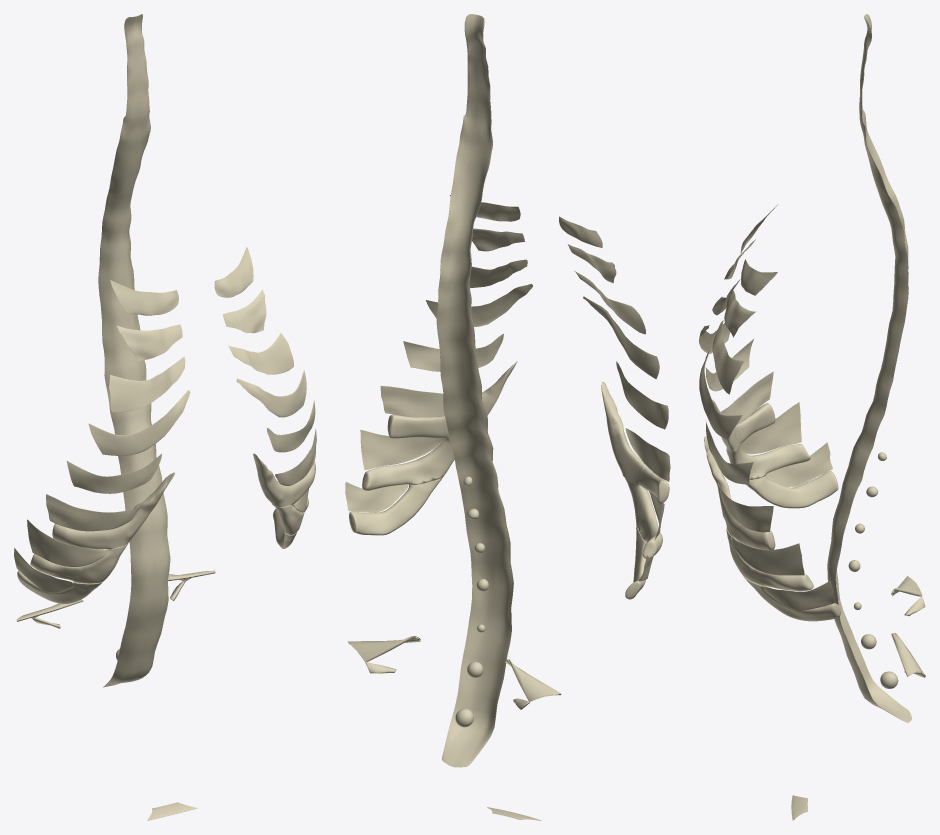
File: joints.abdomen.glb
The picture shows the model from 3 angles, left to right: view 1: azimuth 30°, elevation 25°; view 2: azimuth 150°, elevation 25°; view 3: azimuth 270°, elevation 25°; orthographic projection. The views are drawn at different scales.
Visible parts, largest first — view 1: anterior_longitudinal_ligament, right_external_intercostal_membrane, left_external_intercostal_membrane, right_costal_cartilage_of_eighth_rib, right_costal_cartilage_of_ninth_rib, left_costal_cartilage_of_eighth_rib, right_costal_cartilage_of_tenth_rib, left_costal_cartilage_of_ninth_rib; view 2: anterior_longitudinal_ligament, left_external_intercostal_membrane, right_external_intercostal_membrane, left_costal_cartilage_of_ninth_rib, right_costal_cartilage_of_eighth_rib, left_costal_cartilage_of_tenth_rib, left_costal_cartilage_of_eighth_rib, right_costal_cartilage_of_ninth_rib, left_iliolumbar_ligament, right_iliolumbar_ligament, right_costal_cartilage_of_tenth_rib; view 3: anterior_longitudinal_ligament, left_external_intercostal_membrane, right_external_intercostal_membrane, right_costal_cartilage_of_tenth_rib, left_costal_cartilage_of_eighth_rib, right_costal_cartilage_of_ninth_rib, left_costal_cartilage_of_ninth_rib, right_costal_cartilage_of_eighth_rib, left_costal_cartilage_of_tenth_rib, left_iliolumbar_ligament, right_iliolumbar_ligament.
Boxes of the visible parts, x1,y1,x2,y2 form: anterior_longitudinal_ligament: (98,14,170,687); right_external_intercostal_membrane: (14,280,190,592); left_external_intercostal_membrane: (214,247,316,530); right_costal_cartilage_of_eighth_rib: (52,472,174,549); right_costal_cartilage_of_ninth_rib: (30,543,128,583); left_costal_cartilage_of_eighth_rib: (253,453,315,506); right_costal_cartilage_of_tenth_rib: (17,570,104,603); left_costal_cartilage_of_ninth_rib: (274,498,308,534); anterior_longitudinal_ligament: (436,14,513,767); left_external_intercostal_membrane: (345,195,532,512); right_external_intercostal_membrane: (559,216,670,581); left_costal_cartilage_of_ninth_rib: (362,438,454,490); right_costal_cartilage_of_eighth_rib: (601,382,669,503); left_costal_cartilage_of_tenth_rib: (349,478,442,535); left_costal_cartilage_of_eighth_rib: (387,361,517,438); right_costal_cartilage_of_ninth_rib: (625,478,662,558); left_iliolumbar_ligament: (348,636,420,673); right_iliolumbar_ligament: (505,658,561,709); right_costal_cartilage_of_tenth_rib: (625,527,646,599); anterior_longitudinal_ligament: (827,14,911,722); left_external_intercostal_membrane: (699,259,835,610); right_external_intercostal_membrane: (699,204,832,487); right_costal_cartilage_of_tenth_rib: (746,471,838,508); left_costal_cartilage_of_eighth_rib: (704,436,775,550); right_costal_cartilage_of_ninth_rib: (726,444,810,479); left_costal_cartilage_of_ninth_rib: (726,527,813,591); right_costal_cartilage_of_eighth_rib: (712,399,775,451); left_costal_cartilage_of_tenth_rib: (743,576,840,621); left_iliolumbar_ligament: (891,633,925,677); right_iliolumbar_ligament: (891,576,925,616).
Size of the model in its own units: 0.2544 by 0.6651 by 0.1728.
